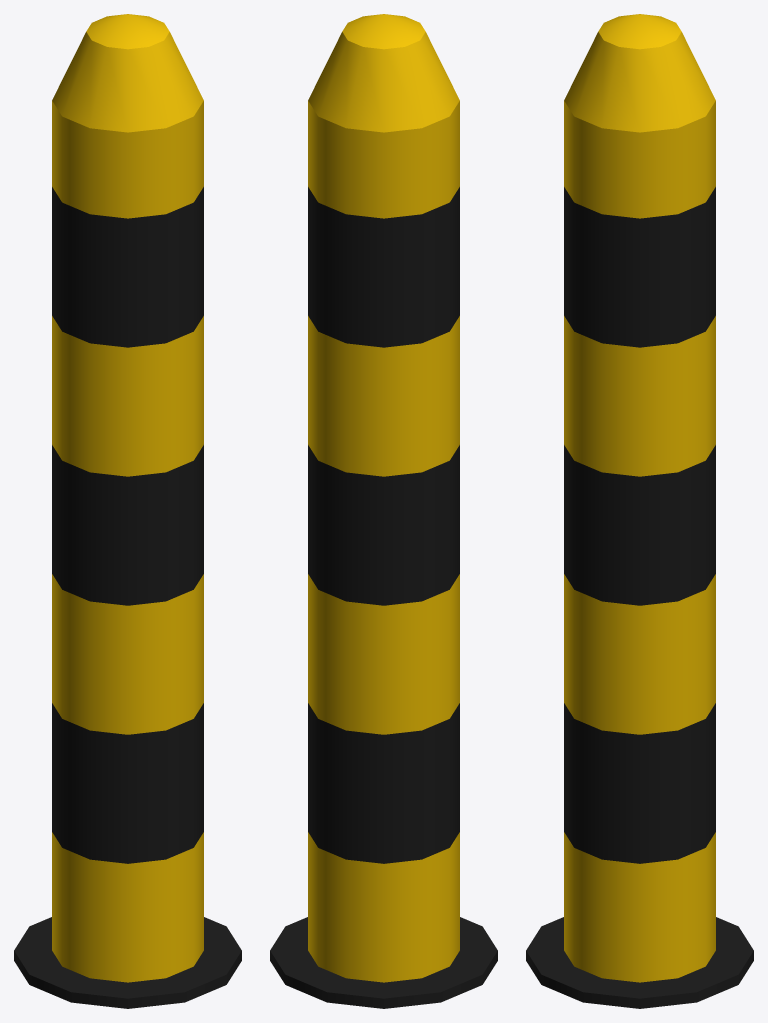
File: bollard.glb
The picture shows the model from 3 angles, left to right: view 1: azimuth 30°, elevation 25°; view 2: azimuth 150°, elevation 25°; view 3: azimuth 270°, elevation 25°; orthographic projection.
Parts seen in each view (by area): view 1: Bollard; view 2: Bollard; view 3: Bollard.
Boxes of the visible parts, x1,y1,x2,y2 form: Bollard: [14, 14, 241, 1008]; Bollard: [270, 14, 497, 1008]; Bollard: [526, 14, 753, 1008].
Size of the model in its own units: 0.24 by 1.1 by 0.24.
